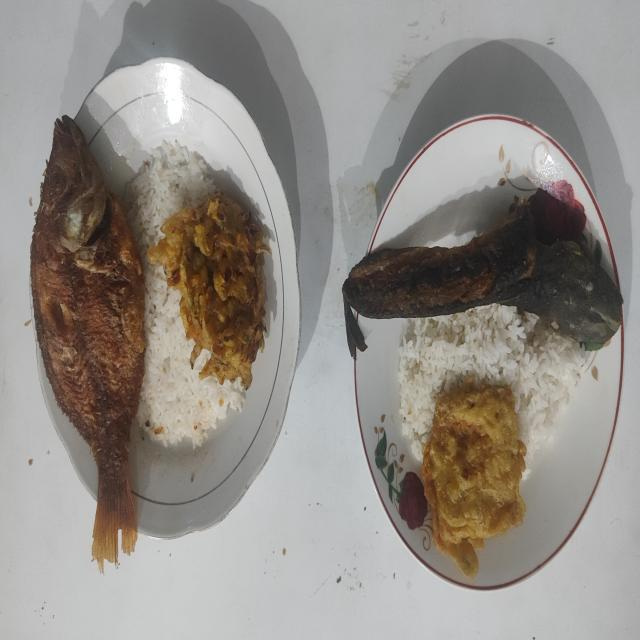ikan_mujair: (30, 116, 146, 572)
nasi_putih: (125, 142, 244, 448), (398, 304, 592, 459)
